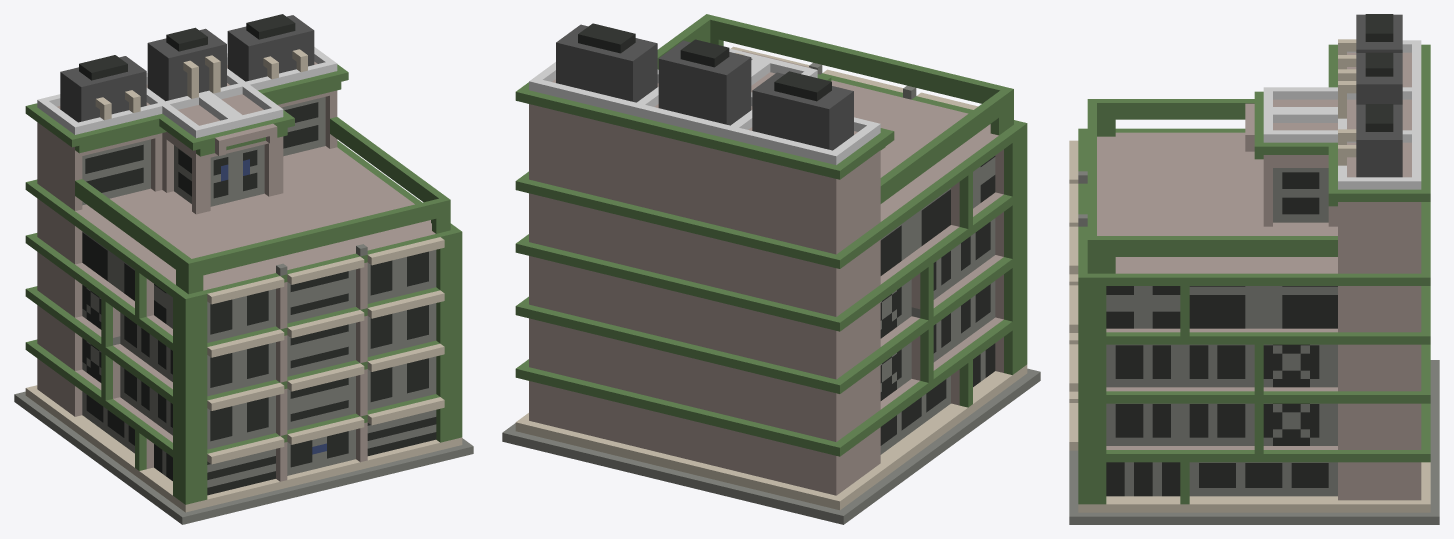
File: edifi.obj
The picture shows the model from 3 angles, left to right: view 1: azimuth 30°, elevation 25°; view 2: azimuth 150°, elevation 25°; view 3: azimuth 270°, elevation 25°; orthographic projection. The views are drawn at different scales.
Bounding box in the file's own units: 4 × 4.6 × 4.
1 material, 1 textured.
